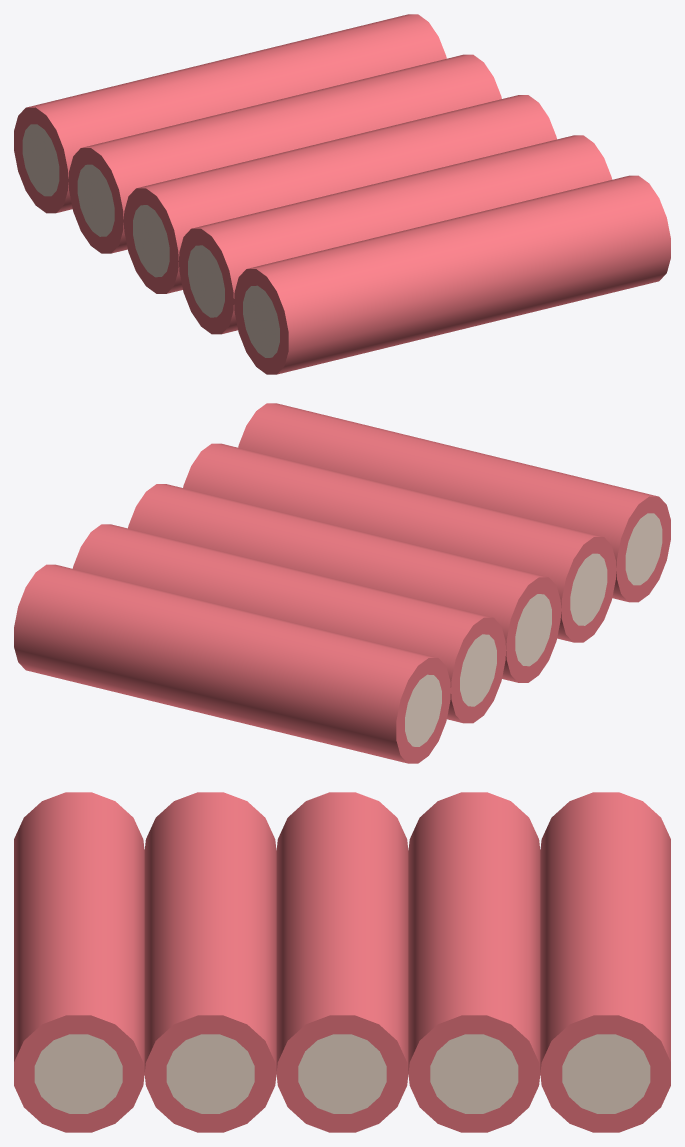
Rendered from Props_Conveyor_Pink_05.fbx.
3 renders of one model, top to bottom at view 1: azimuth 30°, elevation 25°; view 2: azimuth 150°, elevation 25°; view 3: azimuth 270°, elevation 25°, orthographic. The views are drawn at different scales.
Parts seen in each view (by area): view 1: Props_Conveyor_Pink_05; view 2: Props_Conveyor_Pink_05; view 3: Props_Conveyor_Pink_05.
Boxes of the visible parts, x1=… form: Props_Conveyor_Pink_05: x1=14, y1=14, x2=670, y2=374; Props_Conveyor_Pink_05: x1=14, y1=403, x2=670, y2=763; Props_Conveyor_Pink_05: x1=14, y1=792, x2=670, y2=1132.
Size of the model in its own units: 79.97 by 19.59 by 99.48.
